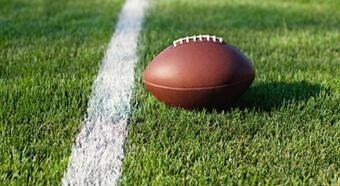Sports-Ball: (143, 34, 255, 108)
